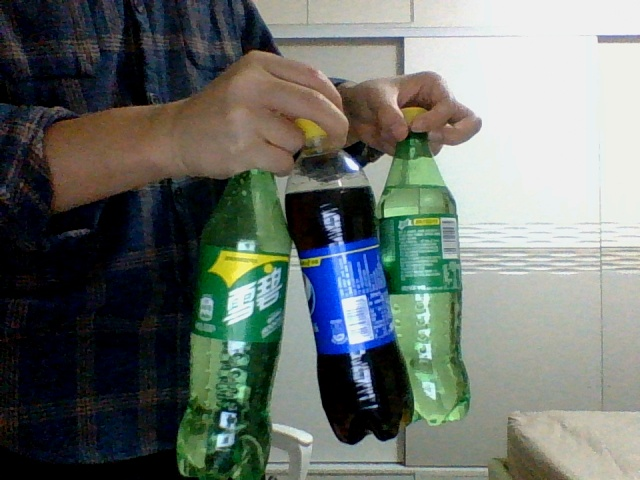Cola: (286, 119, 414, 444)
Sprite: (175, 170, 293, 477), (380, 106, 472, 425)
